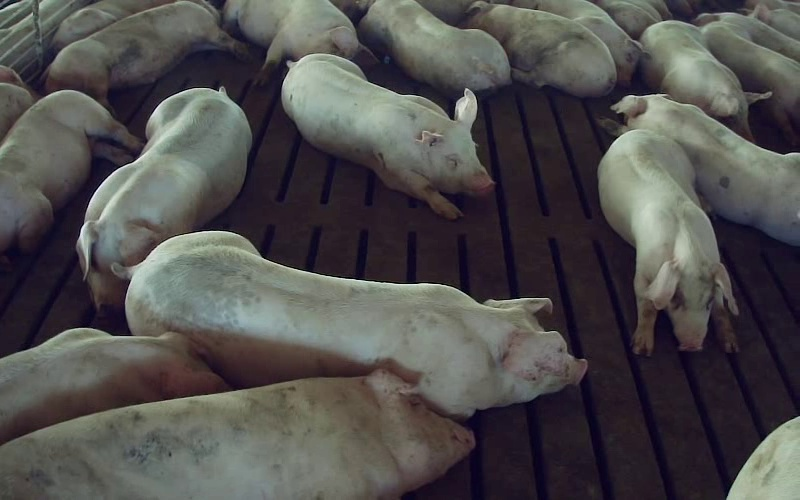pig: (0, 370, 474, 499), (282, 54, 493, 219), (599, 94, 799, 245), (0, 328, 227, 443), (0, 90, 141, 253), (45, 0, 246, 110), (640, 20, 762, 140), (358, 0, 510, 96), (461, 2, 615, 96), (223, 0, 379, 84), (700, 22, 799, 144), (513, 0, 641, 85)
